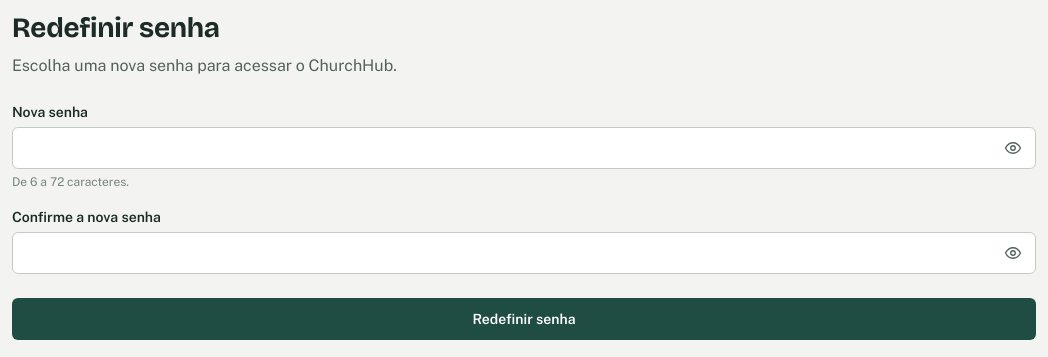
Test: redefinir senha › 204: confirma a troca e leva ao login
Step 1. Type "novaSenha1" into the password field labelled "Nova senha" → point(524, 148), box [12,127,1036,169]
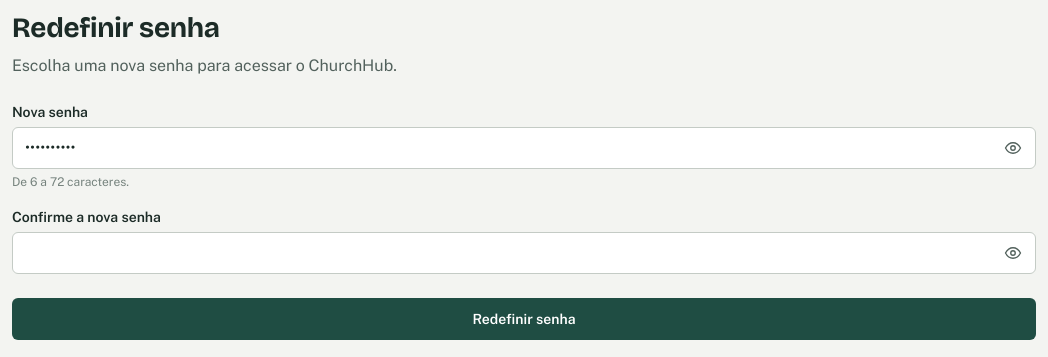
Step 2. Type "novaSenha1" into the password field labelled "Confirme a nova senha" → point(524, 253), box [12,232,1036,274]
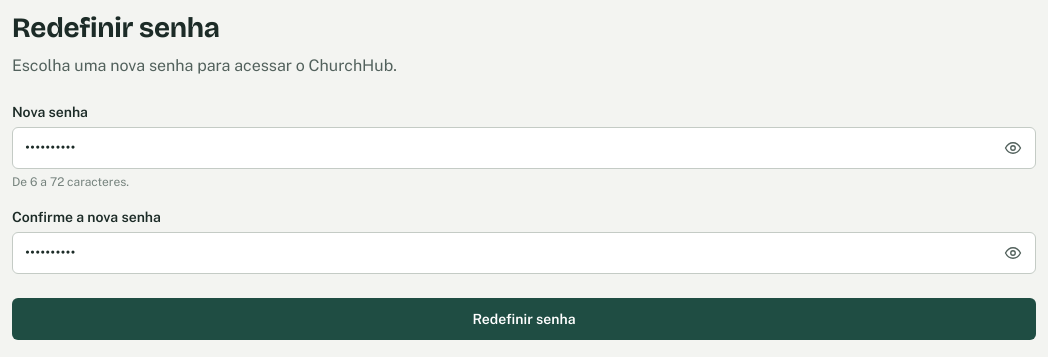
Step 3. Click the button "Redefinir senha" → point(524, 319), box [12,298,1036,340]
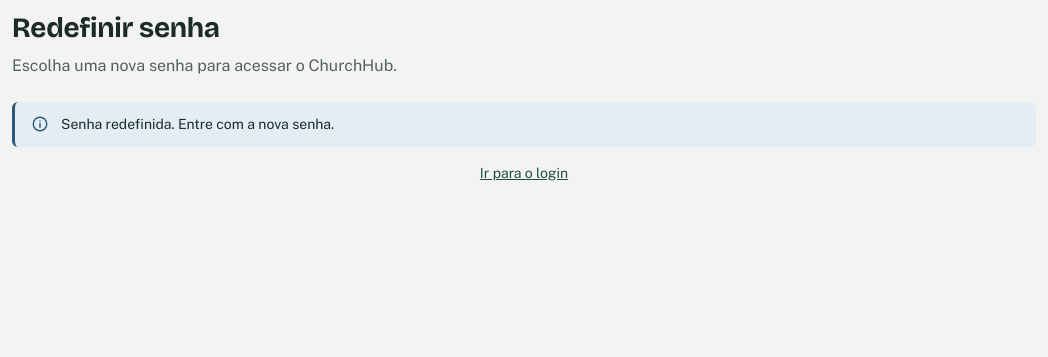
Now the message reads "Senha redefinida. Entre com a nova senha.", box [61,116,334,132]
